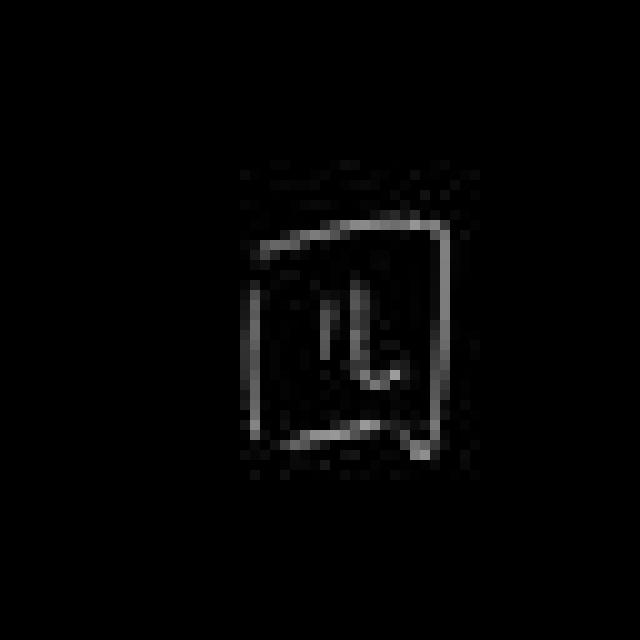4 -four-: (225, 204, 466, 476)
